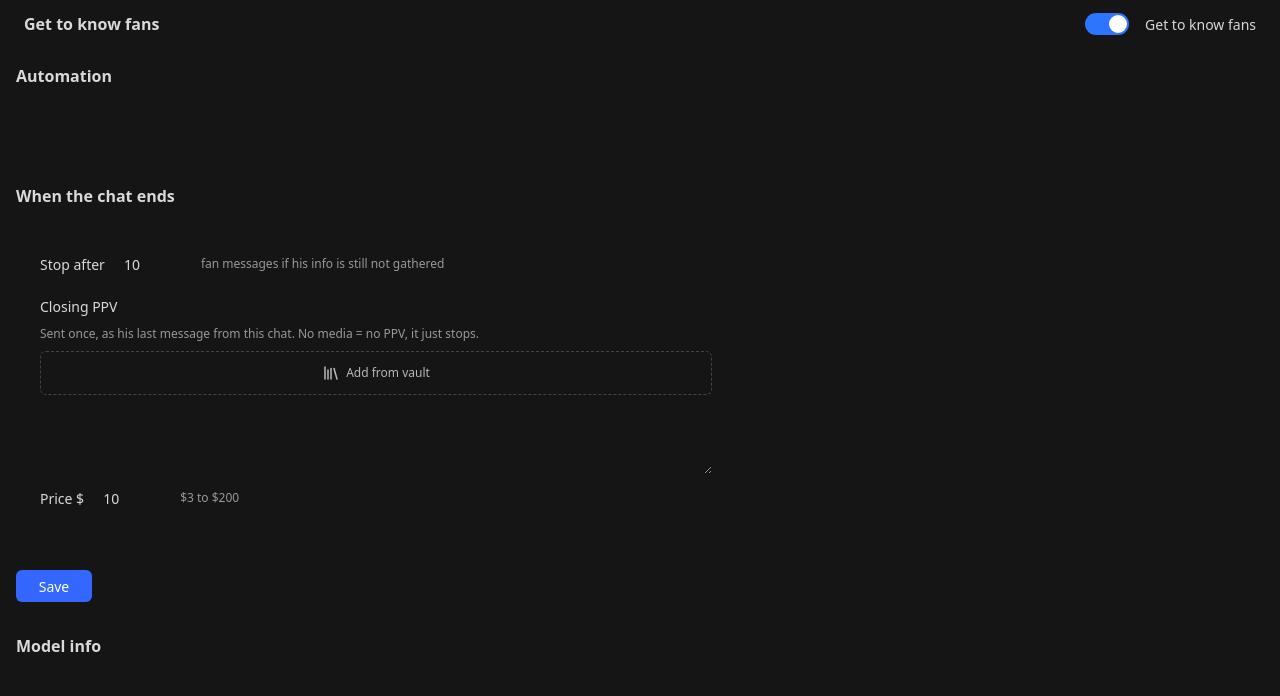
it: Get to know fans › does not show Saved over a cutoff typed while the rule save was in flight
This screenshot has width=1280, height=696.
Click the button "Save" at (54, 586), box [16,570,92,602]
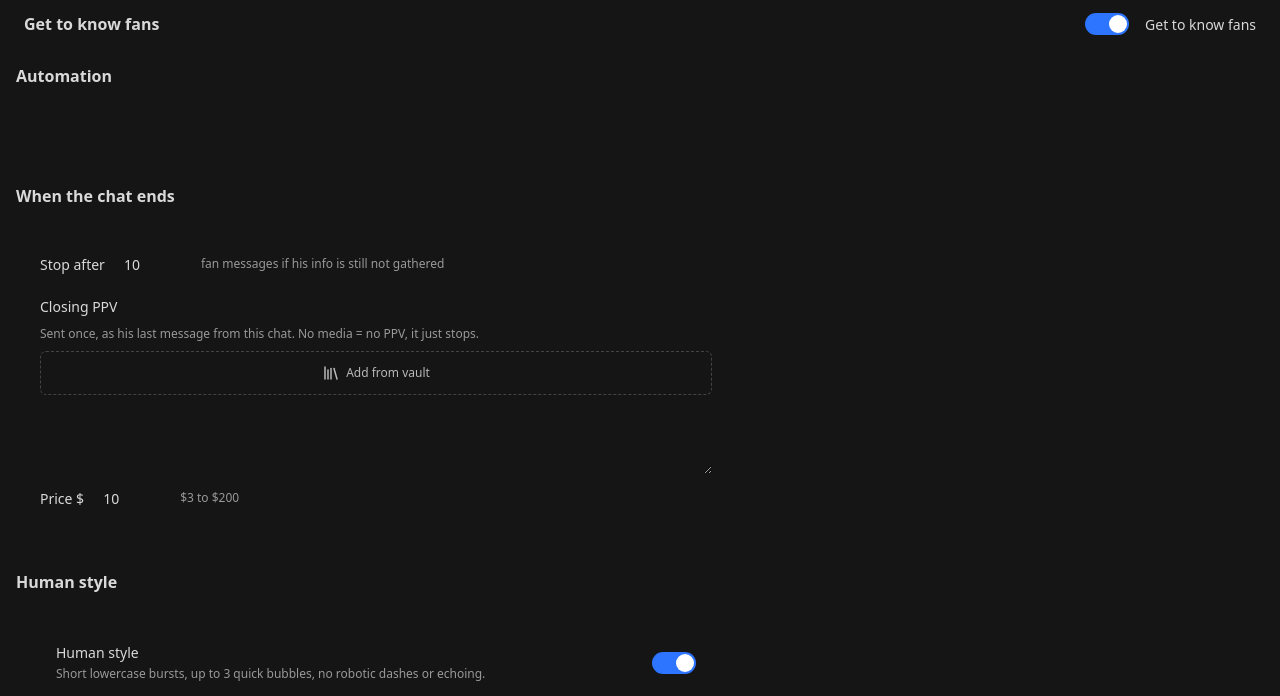
Replace the text in the number field named "Message cutoff" with "12" at (153, 264), box [113,248,193,280]
(page scrolled)
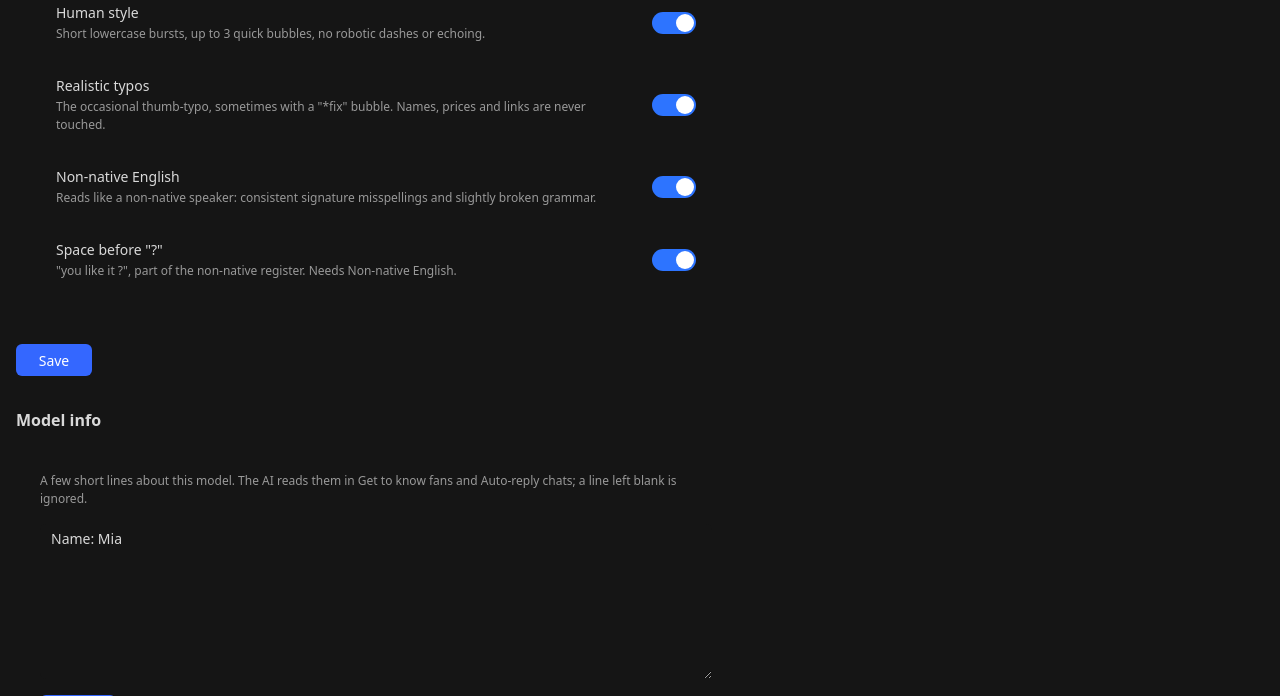
Expected: the text "Saved" is not shown
Expected: the 1st button "Save" is enabled
Click the 1st button "Save" at (54, 360), box [16,344,92,376]
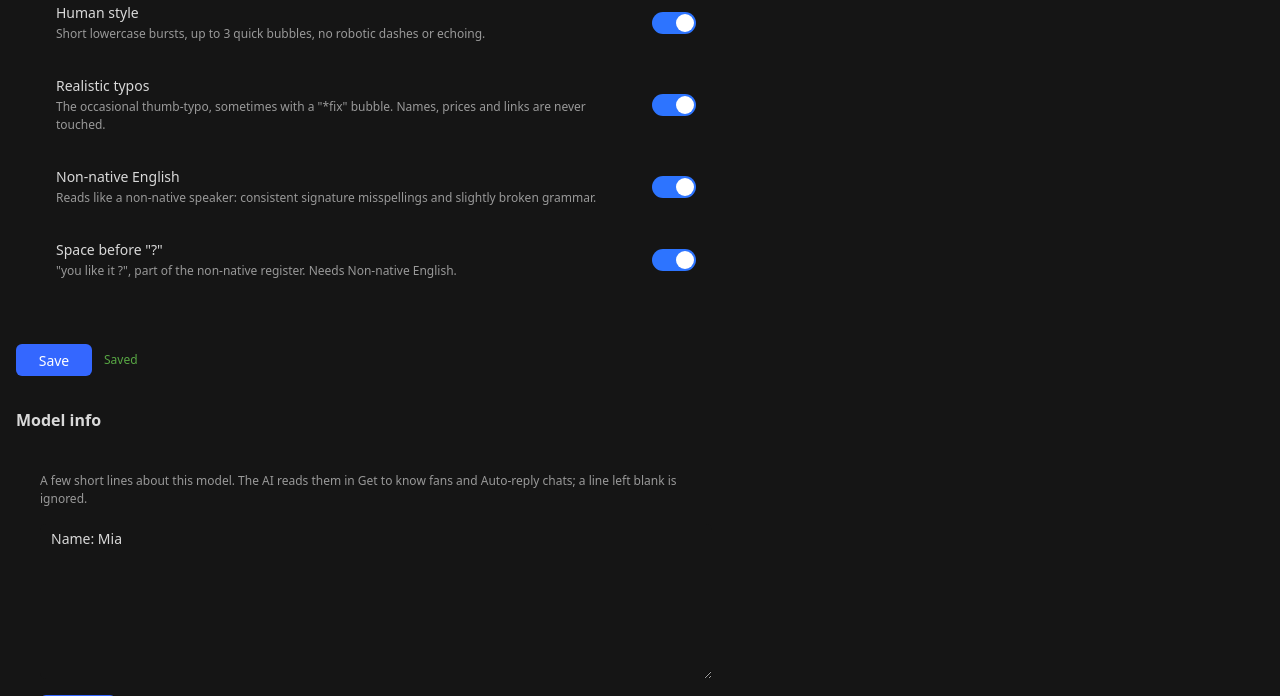
Expected: the text "Saved" is shown, [104,351,138,369]
